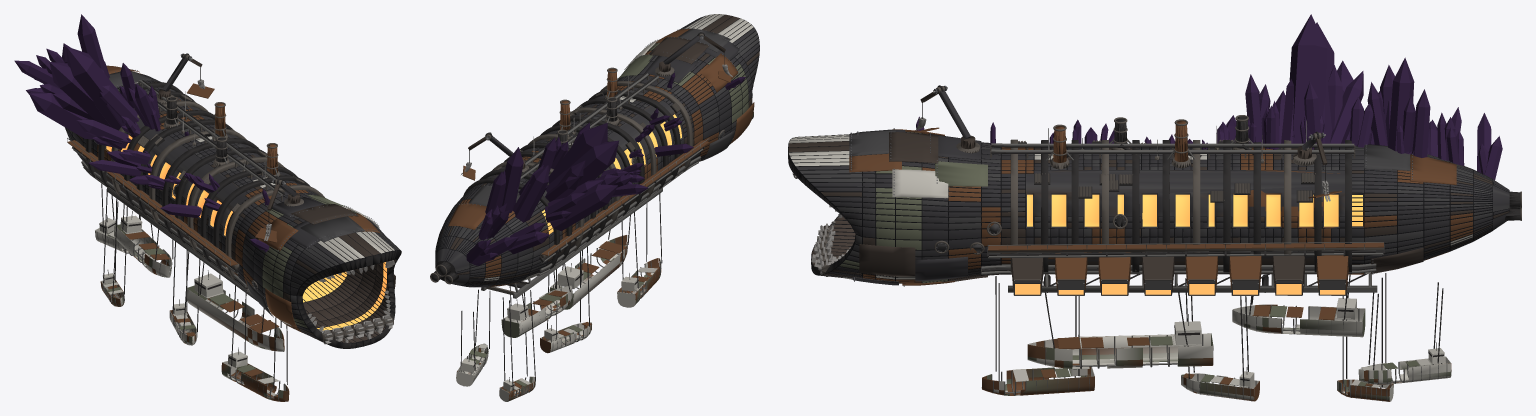
The model's file is Ferrox_Bienenstock.glb.
3 renders of one model, left to right at view 1: azimuth 30°, elevation 25°; view 2: azimuth 150°, elevation 25°; view 3: azimuth 270°, elevation 25°, orthographic. The views are drawn at different scales.
Parts seen in each view (by area): view 1: Ferrox_Bienenstock; view 2: Ferrox_Bienenstock; view 3: Ferrox_Bienenstock.
Boxes of the visible parts, <box> form: Ferrox_Bienenstock: <box>14,14,401,401</box>; Ferrox_Bienenstock: <box>430,14,759,401</box>; Ferrox_Bienenstock: <box>788,14,1521,401</box>.
Bounding box in the file's own units: 146 × 218 × 422.
